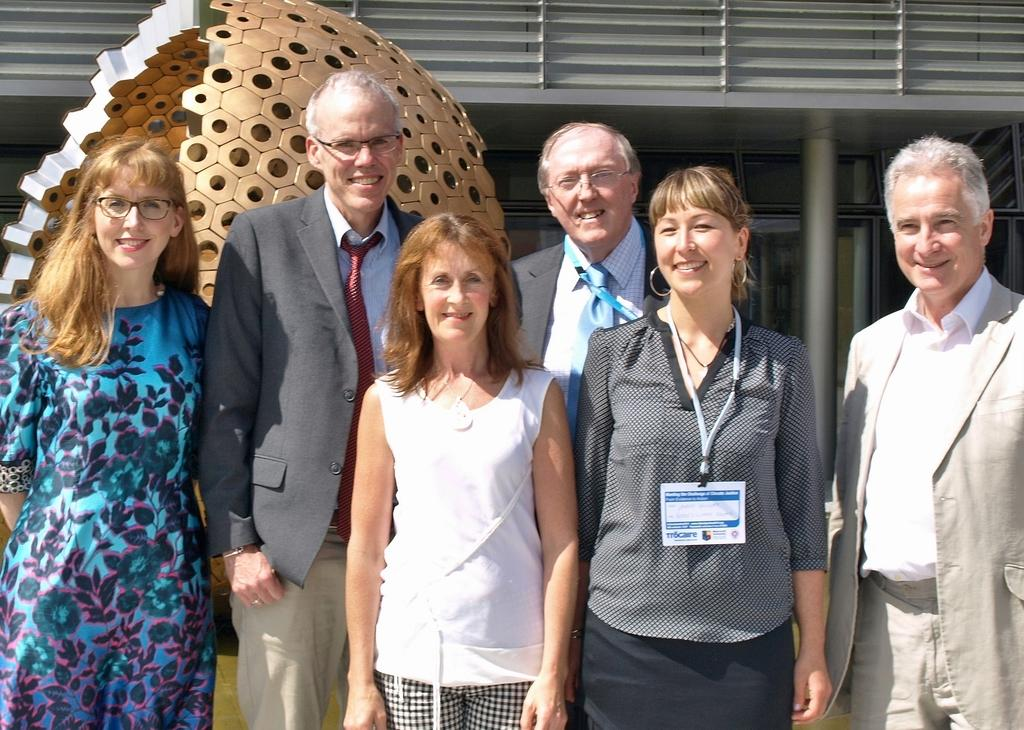Sem Máscara: (891, 165, 974, 292), (317, 90, 394, 213), (654, 188, 734, 294), (89, 164, 172, 261), (546, 142, 626, 240), (418, 239, 490, 342)
